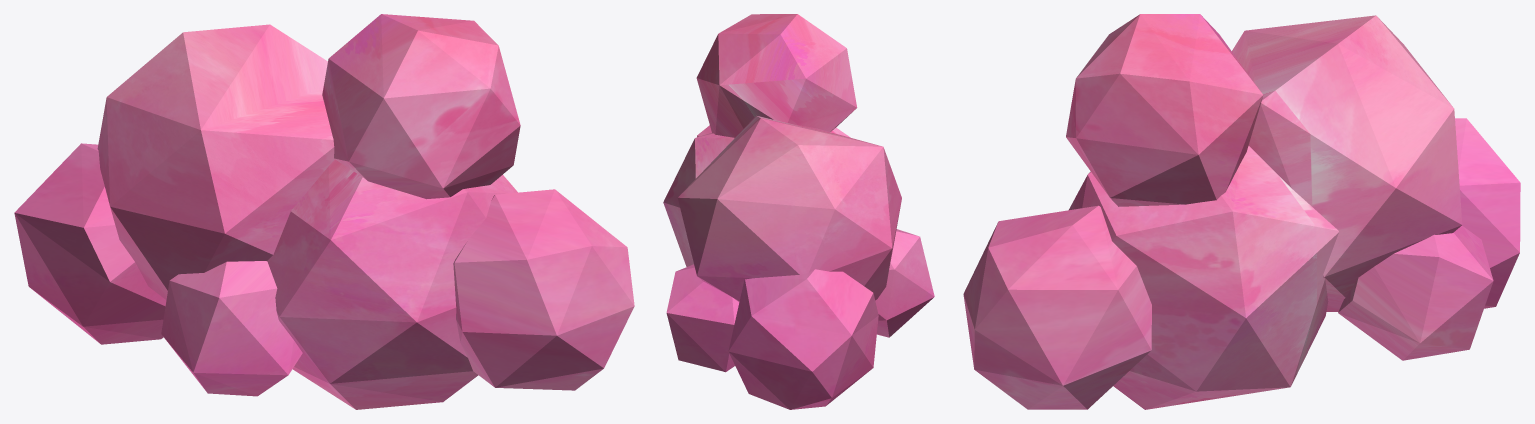
Rendered from Cloud4.fbx.
3 renders of one model, left to right at view 1: azimuth 30°, elevation 25°; view 2: azimuth 150°, elevation 25°; view 3: azimuth 270°, elevation 25°, orthographic. The views are drawn at different scales.
Parts seen in each view (by area): view 1: Cloud_3; view 2: Cloud_3; view 3: Cloud_3.
Part boxes in pixels (box(x1,y1,x2,y2)): Cloud_3: box(14, 14, 634, 409); Cloud_3: box(663, 14, 934, 409); Cloud_3: box(963, 14, 1520, 409).
Size of the model in its own units: 13.22 by 11.99 by 15.63.
Materials: 1 (1 with a texture image).
